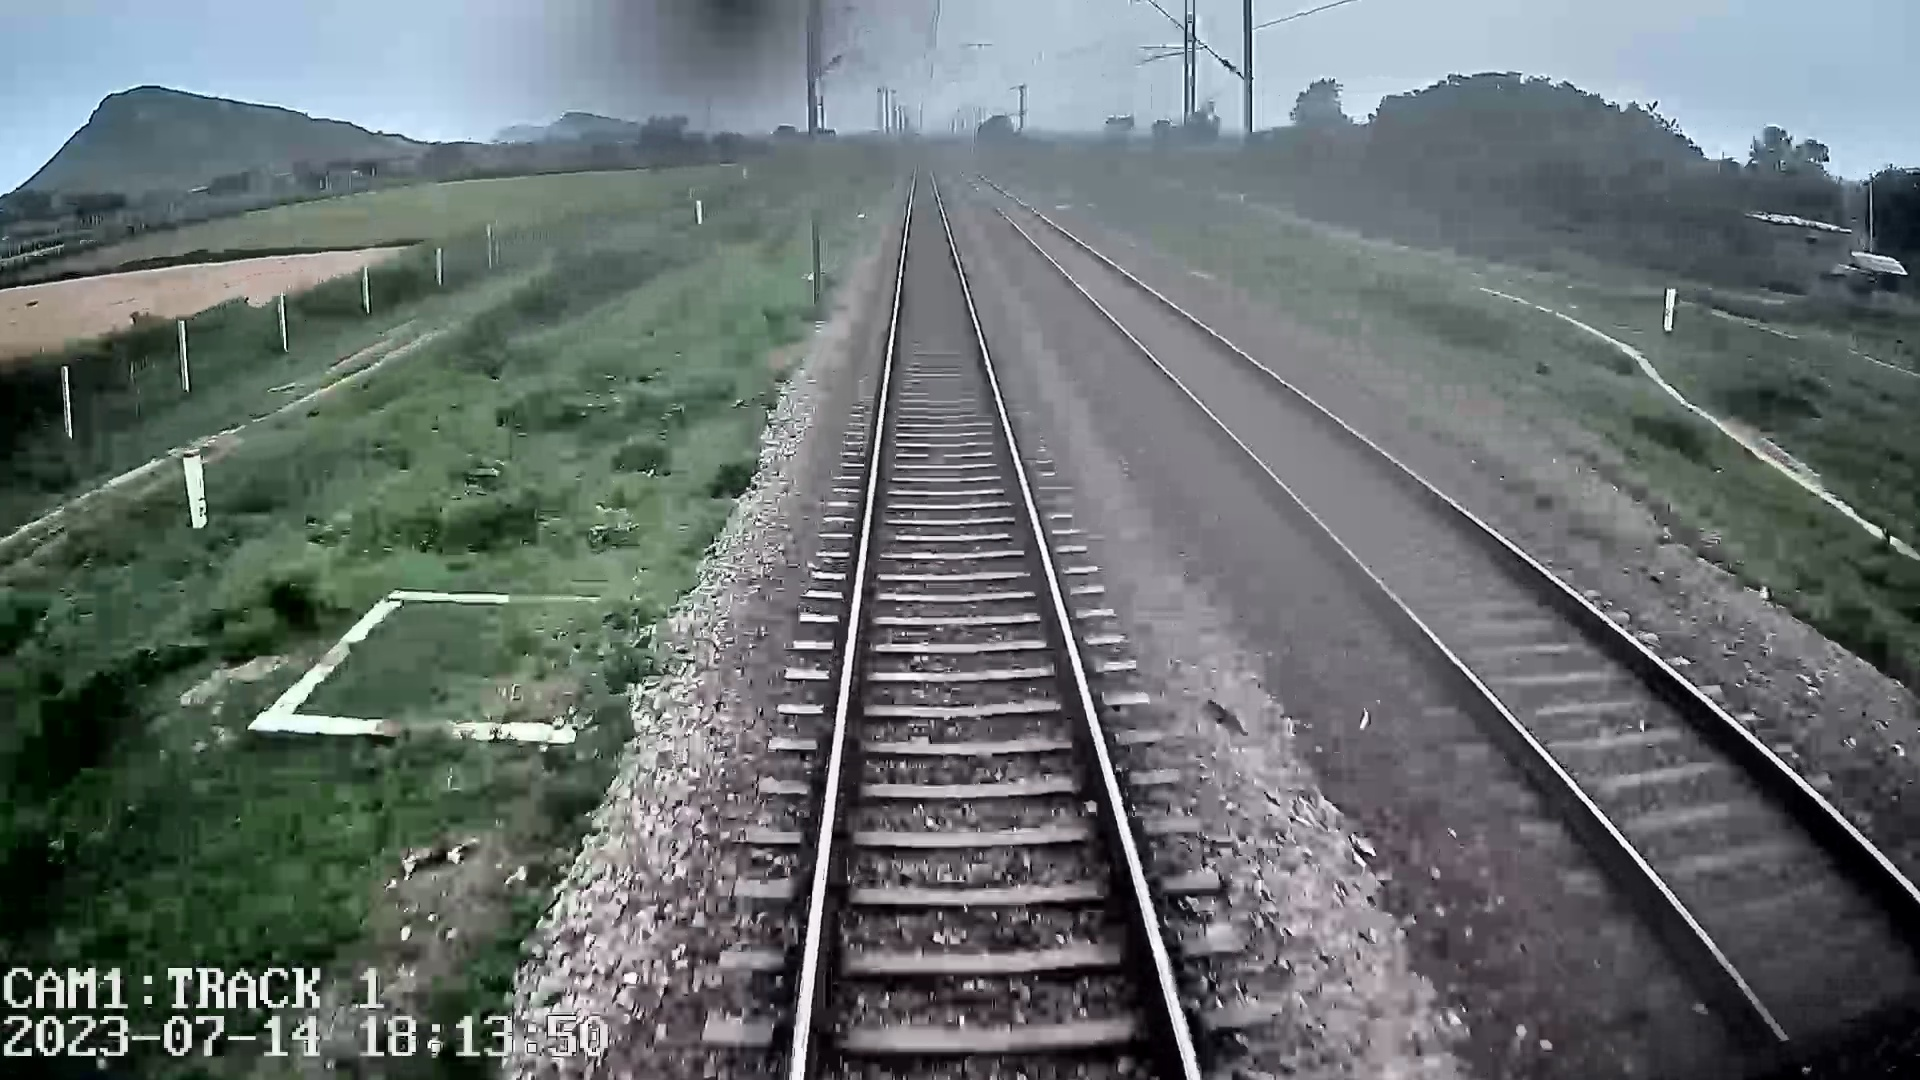track1: (796, 177, 1191, 1068)
track2: (994, 199, 1919, 1042)
